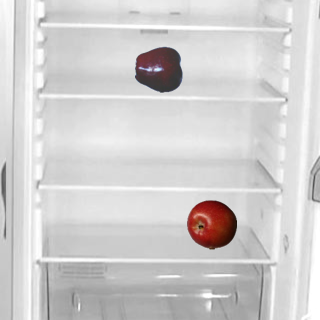Apple Braeburn: (186, 199, 236, 249)
Apple Red Delicious: (134, 44, 184, 94)
